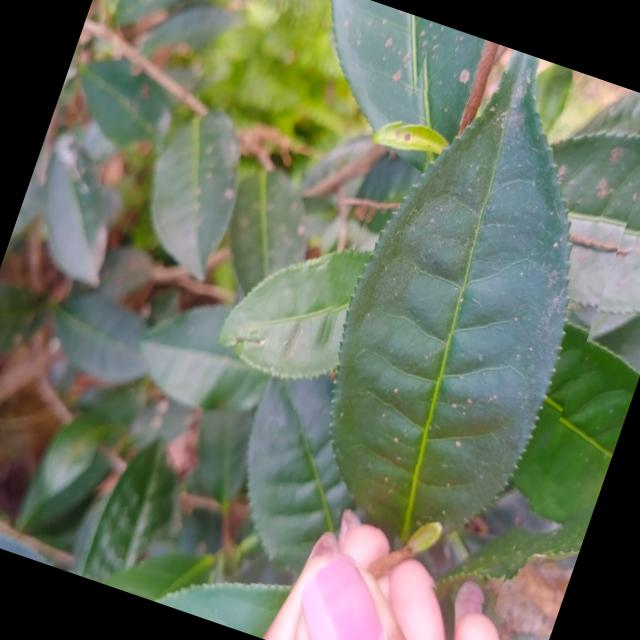Category D(7+ days, Not for Tea): (250, 18, 640, 613)
